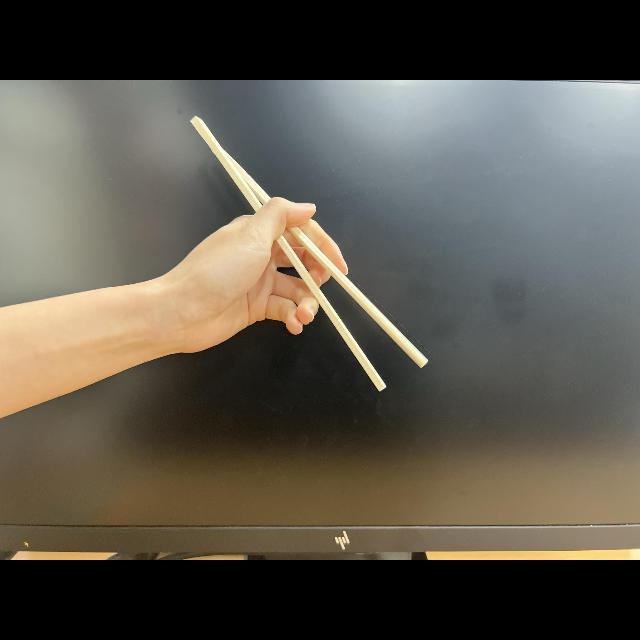stick: (166, 116, 428, 392)
